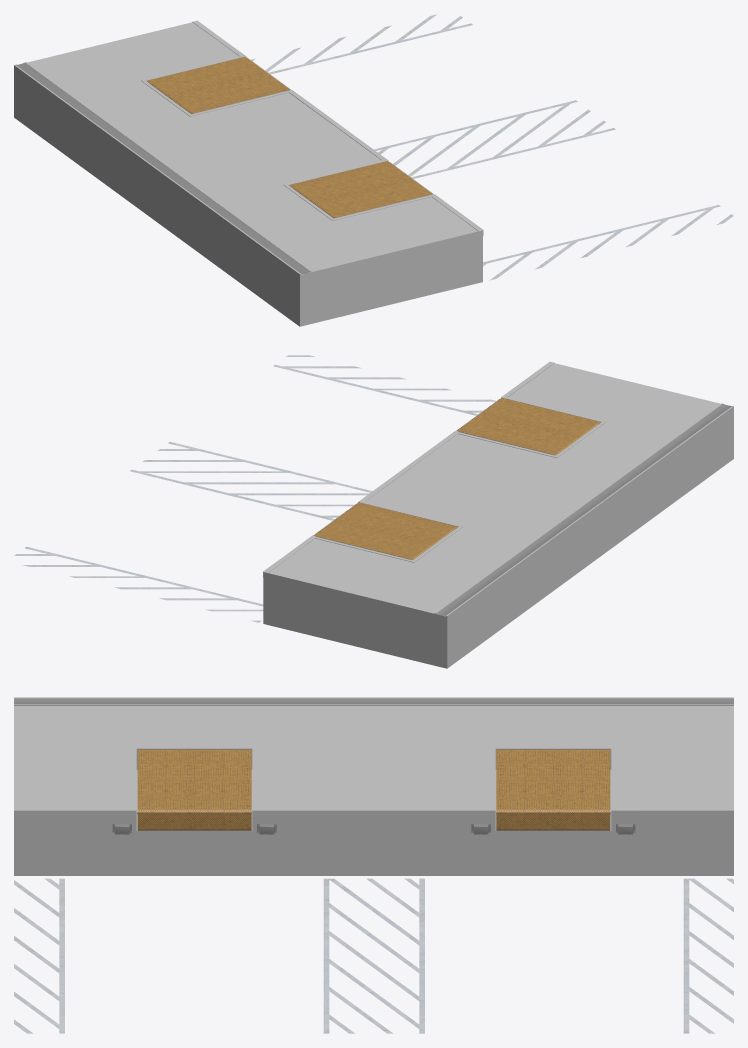
Rendered from Warehouse_Floor_Elevated.FBX.
The picture shows the model from 3 angles, top to bottom: view 1: azimuth 30°, elevation 25°; view 2: azimuth 150°, elevation 25°; view 3: azimuth 270°, elevation 25°; orthographic projection. The views are drawn at different scales.
Visible parts, largest first — view 1: Warehouse_Floor_Elevated001; view 2: Warehouse_Floor_Elevated001; view 3: Warehouse_Floor_Elevated001.
Part boxes in pixels (left/top/right/bottom): Warehouse_Floor_Elevated001: left=14, top=14, right=733, bottom=326; Warehouse_Floor_Elevated001: left=14, top=355, right=733, bottom=668; Warehouse_Floor_Elevated001: left=14, top=697, right=733, bottom=1033.
Size of the model in its own units: 426 by 48.63 by 480.
